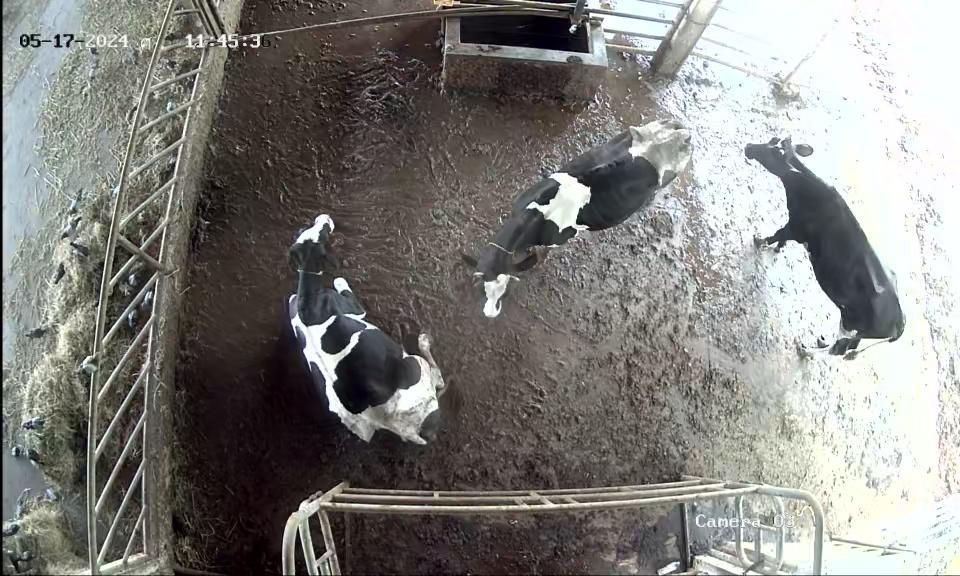lay: (279, 202, 465, 467)
stand: (458, 111, 708, 338), (733, 116, 915, 379)
